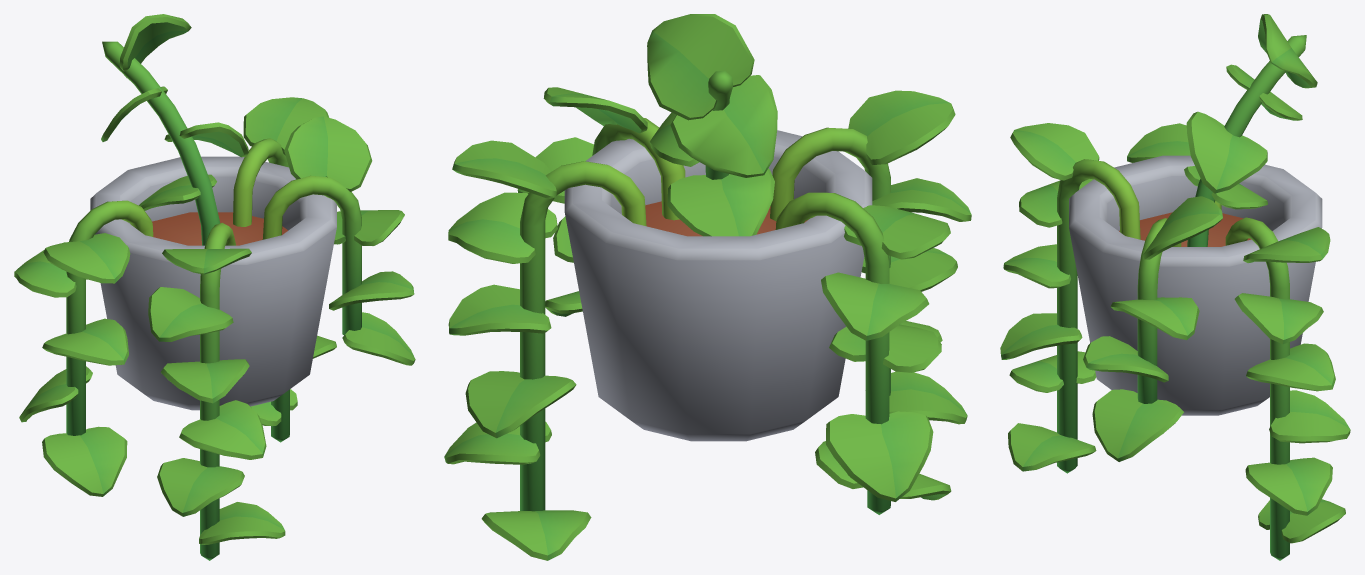
The model's file is plant_pothos_medium.glb.
3 renders of one model, left to right at view 1: azimuth 30°, elevation 25°; view 2: azimuth 150°, elevation 25°; view 3: azimuth 270°, elevation 25°, orthographic. The views are drawn at different scales.
Visible parts, largest first — view 1: pothos_plant_medium_potted; view 2: pothos_plant_medium_potted; view 3: pothos_plant_medium_potted.
Boxes of the visible parts, box(x1,y1,x2,y2) form: pothos_plant_medium_potted: box(14, 14, 415, 560); pothos_plant_medium_potted: box(444, 14, 971, 560); pothos_plant_medium_potted: box(1000, 14, 1350, 560).
Size of the model in its own units: 1.62 by 2.05 by 1.37.
1 material, 1 textured.
